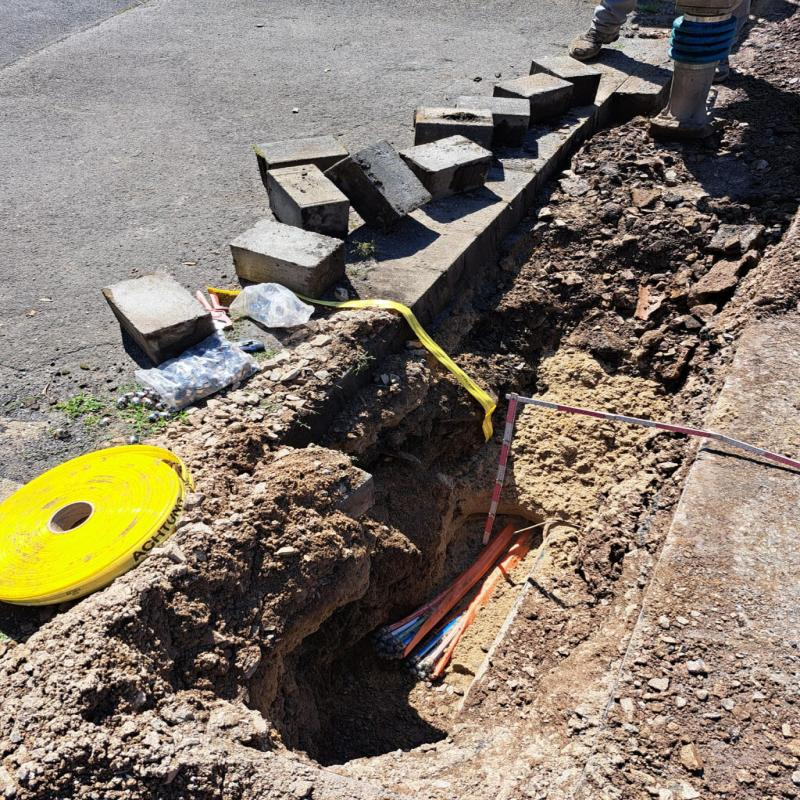Orang-Speednetrohrchen: (371, 525, 513, 660), (403, 532, 529, 680)
